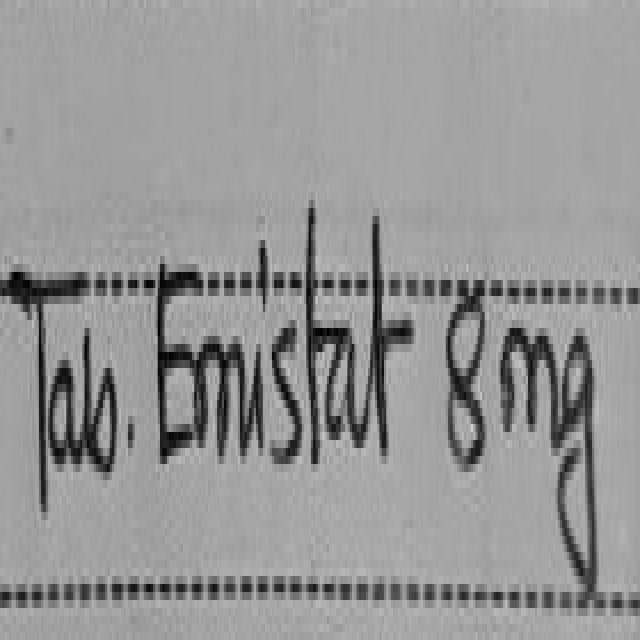8: (446, 296, 487, 468)
E: (160, 268, 200, 460)
T: (6, 264, 94, 508)
a: (327, 321, 370, 448), (49, 368, 87, 464)
b: (83, 328, 119, 474)
g: (560, 335, 594, 596)
i: (247, 352, 263, 452), (258, 240, 267, 300)
m: (503, 319, 562, 444), (195, 331, 246, 456)
s: (272, 328, 302, 460)
t: (361, 199, 415, 452), (307, 211, 331, 460)
